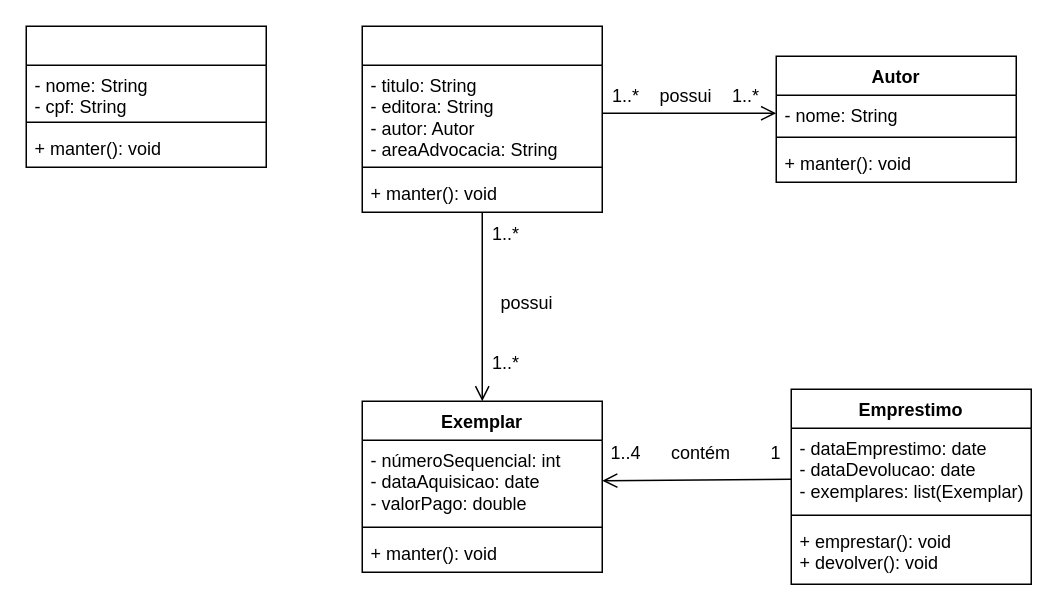
This 1058x615 diagram has some shape labels left out. Each missing label, with the box of its shape:
Funcionario: (25, 25, 266, 167)
Livro: (361, 25, 602, 212)
